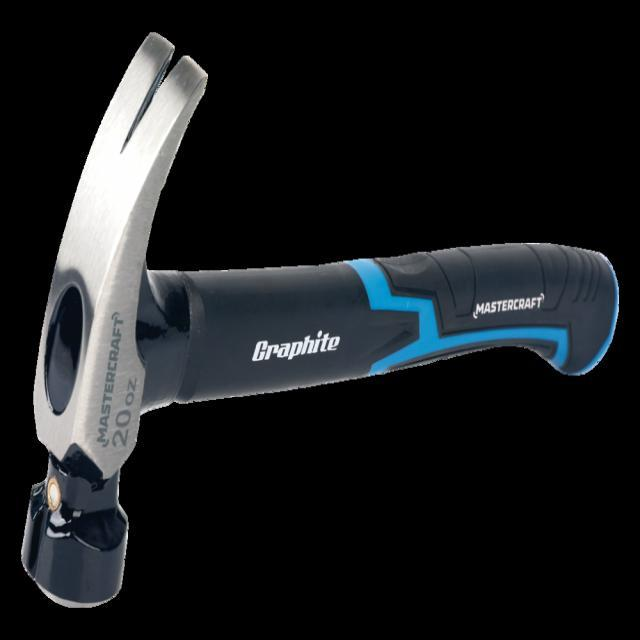hammer: (18, 30, 620, 614)
